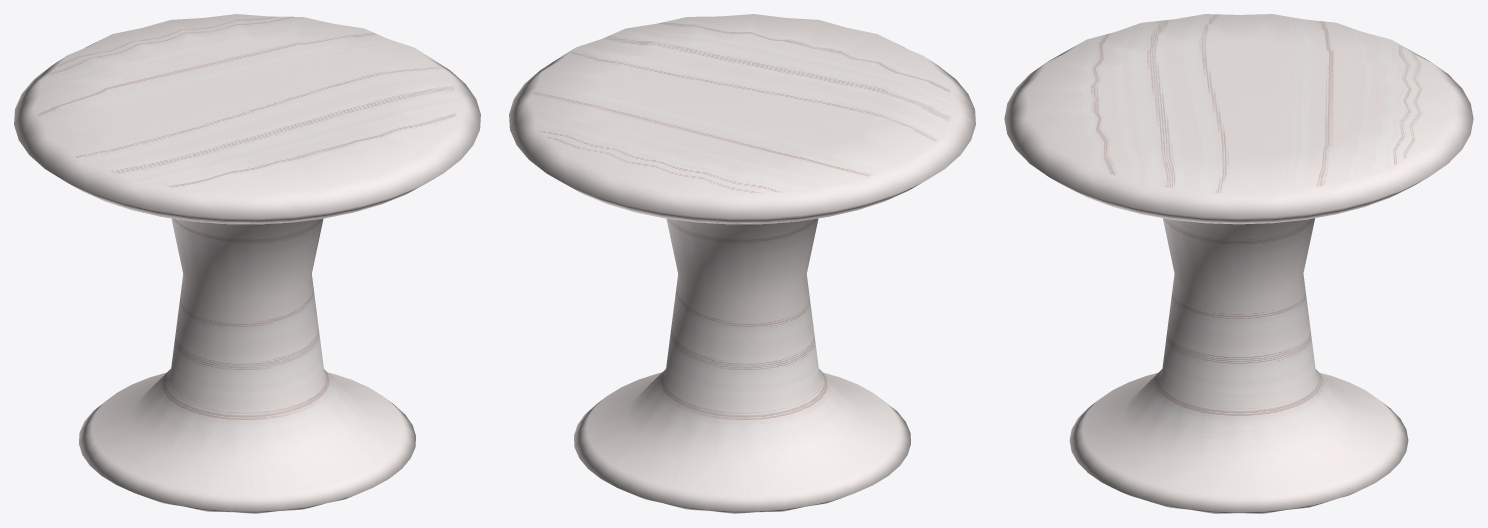
File: endtable_round.fbx
3 renders of one model, left to right at view 1: azimuth 30°, elevation 25°; view 2: azimuth 150°, elevation 25°; view 3: azimuth 270°, elevation 25°, orthographic.
Visible parts, largest first — view 1: endtable_round_text:pCylinder1; view 2: endtable_round_text:pCylinder1; view 3: endtable_round_text:pCylinder1.
Part boxes in pixels (box(x1,y1,x2,y2)): endtable_round_text:pCylinder1: box(14, 14, 480, 513); endtable_round_text:pCylinder1: box(509, 14, 975, 513); endtable_round_text:pCylinder1: box(1004, 14, 1473, 513).
Size of the model in its own units: 0.9945 by 0.8262 by 0.9945.
1 material, 1 textured.
